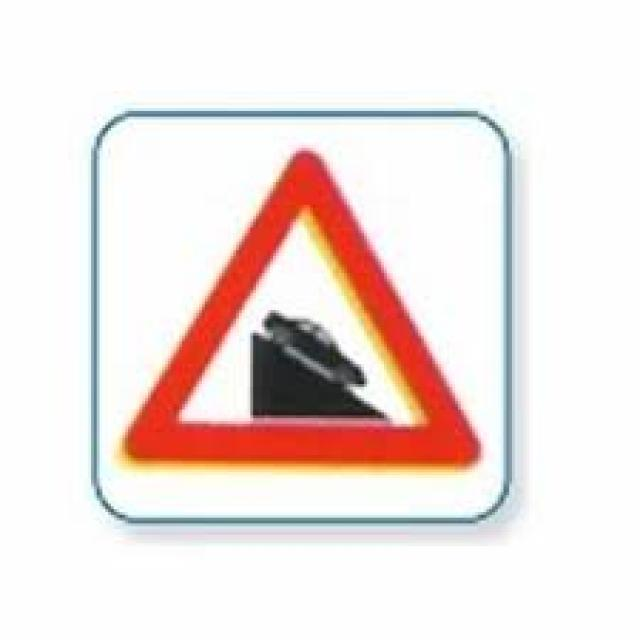steep descent: (114, 142, 487, 479)
